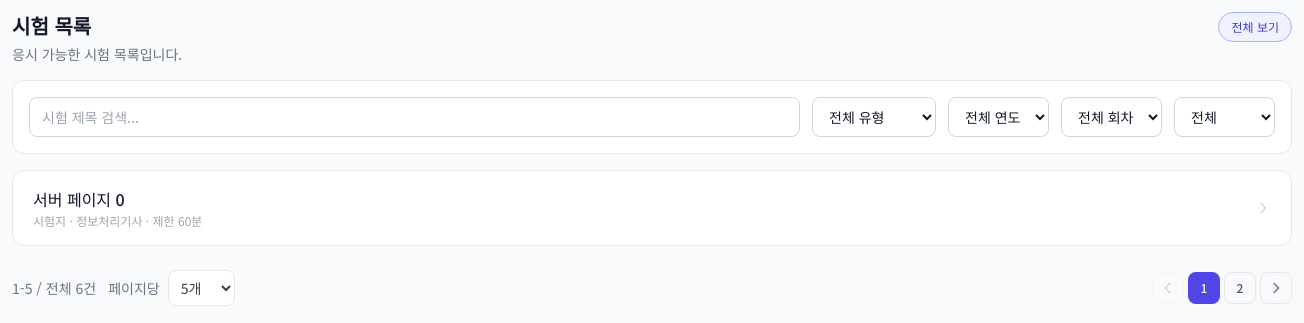
it: 사용자 시험 서버 목록 › 기본 5개 서버 페이지를 이동하고 전체 활성 시험의 연도·회차 선택지를 유지한다
Expected: the text "서버 페이지 0" is shown, [33,187,125,211]
Click the button named "다음 페이지" at (1276, 288), box [1260,272,1292,304]
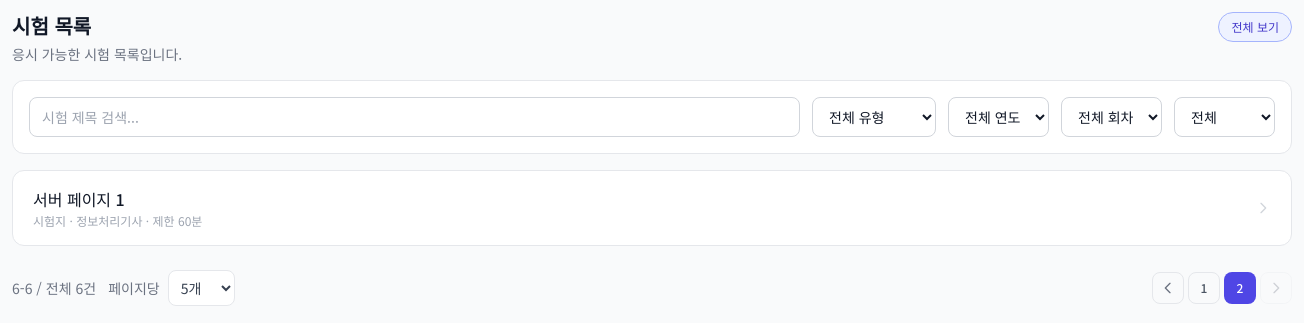
Result: the text "서버 페이지 1" is shown at [33,187,125,211]
